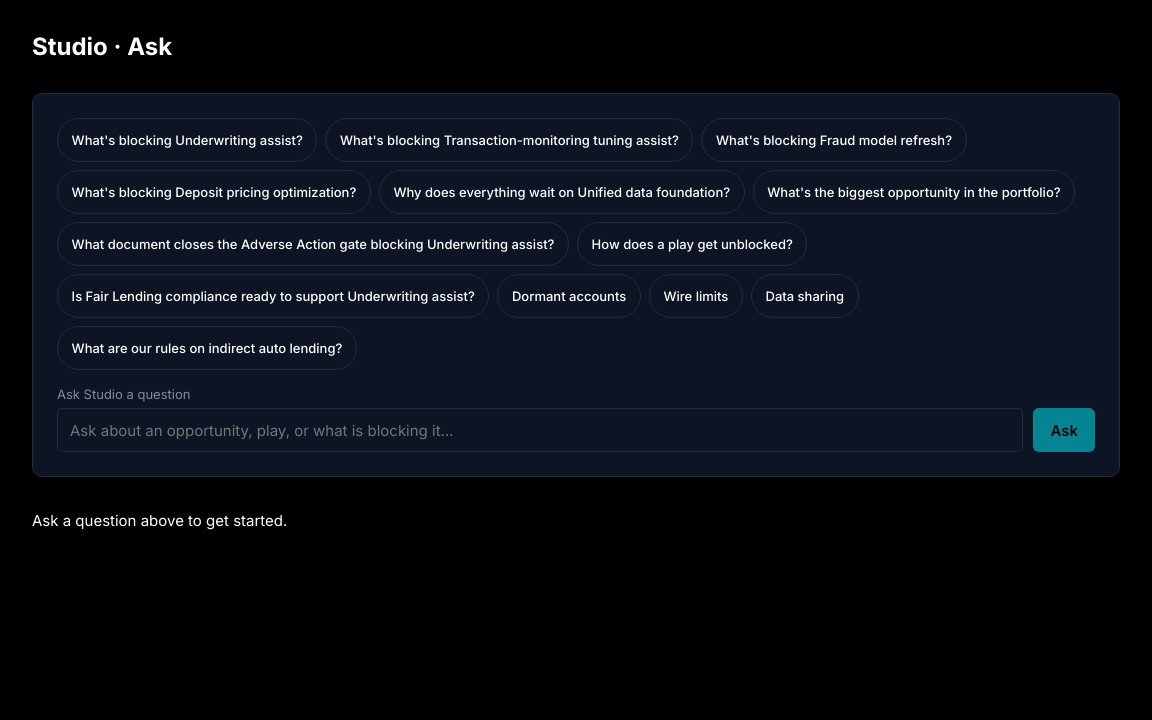
§8 R-1 — eyebrow treatment authored only by Label (P3) eyebrow › StudioAsk.tsx — the response canvas's "Artifacts" heading (amendment A20, design_system_spec.md Section 2.9.9(a) — the generalized former "Sources" panel) rende
Type "What is our wire transfer limit for members?" into the field labelled "Ask Studio a question" at (540, 430), box [57,408,1023,452]
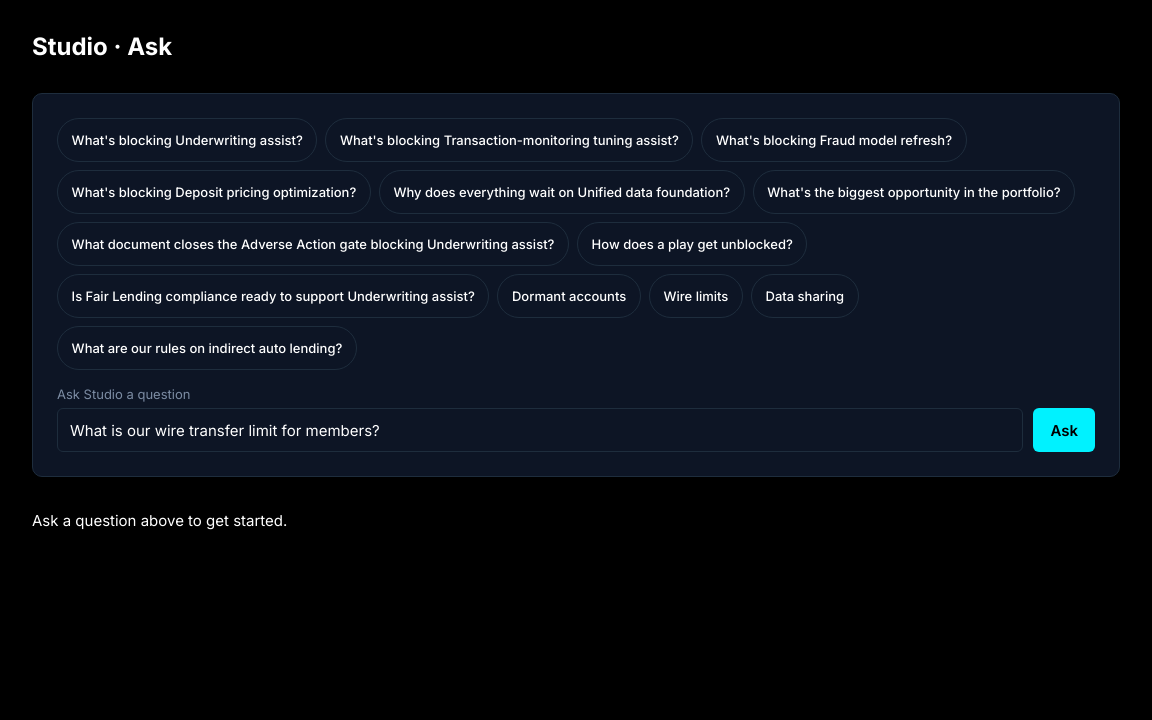
Click the button "Ask" at (1064, 430), box [1033,408,1095,452]
Wait 800 ms
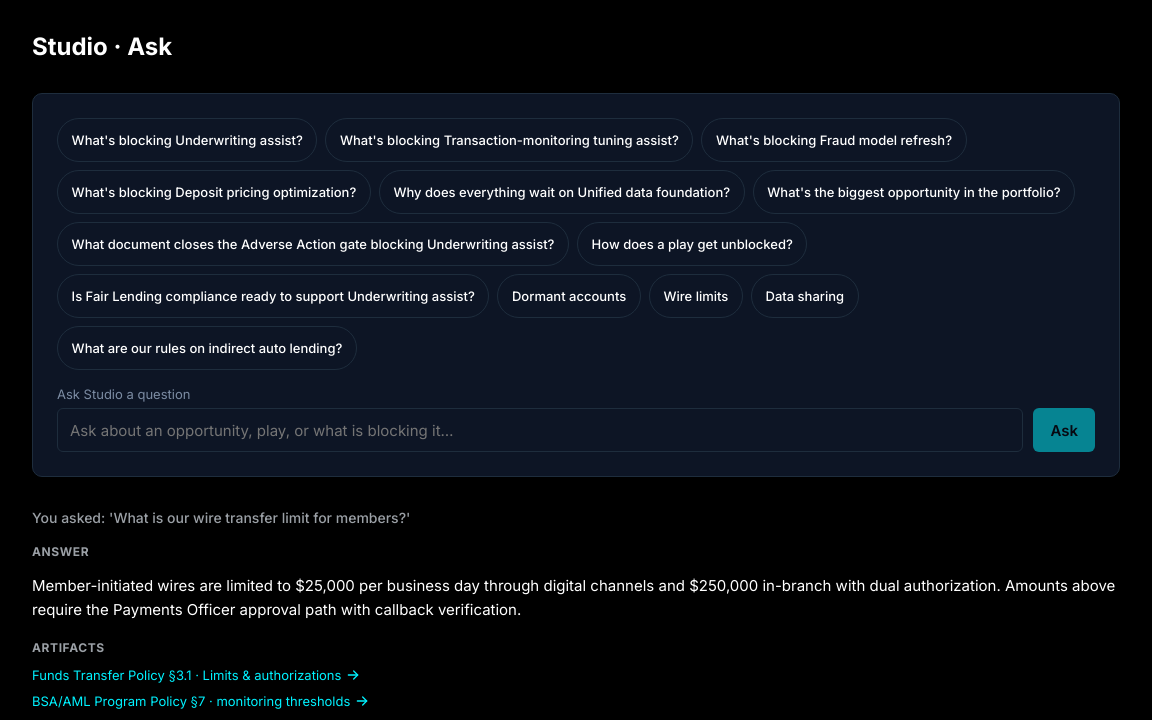
expect the text "Artifacts" is shown: met, box [32,640,105,655]
